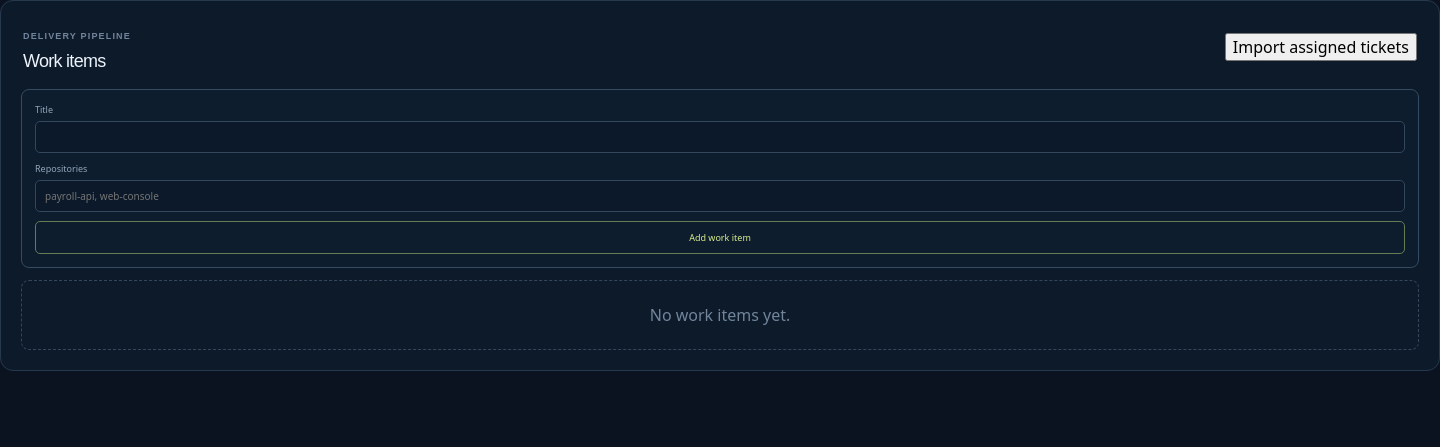
Test: WorkItemsPage › lists work items and adds one through the form
Expected: the text "No work items yet." is shown, [21, 280, 1419, 350]
Step 1. Type "Repair payroll export" into the field labelled "Title" → (720, 137), box [35, 121, 1405, 153]
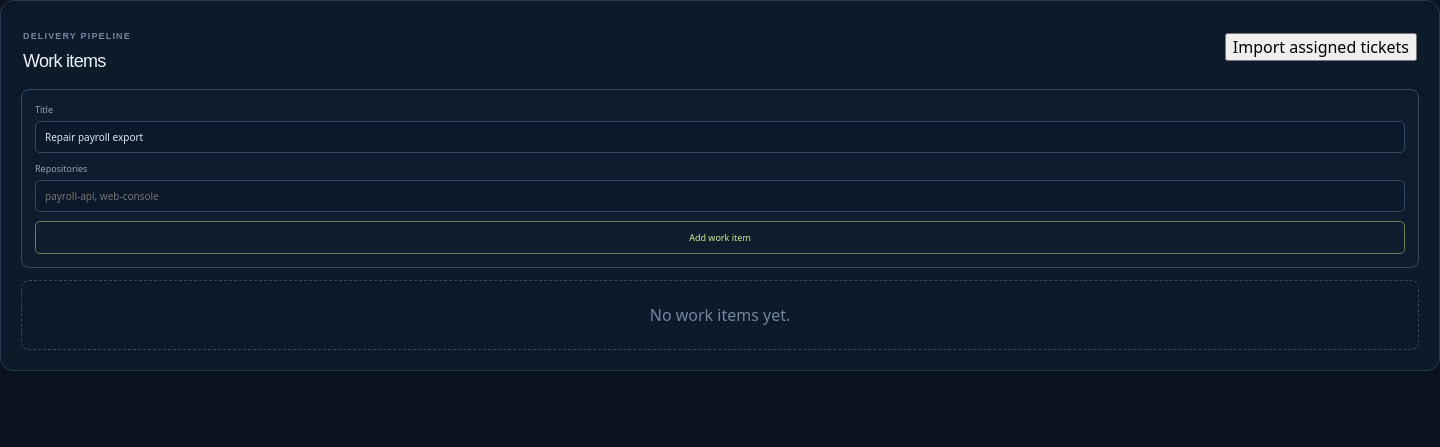
Step 2. Type "payroll-api" into the field labelled "Repositories" → (720, 196), box [35, 180, 1405, 212]
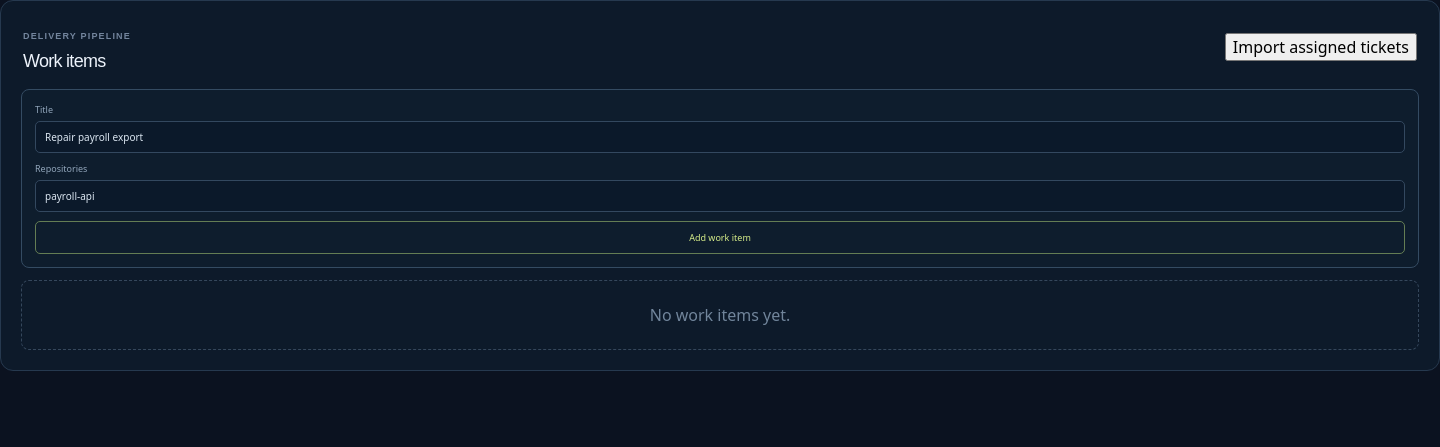
Step 3. Click the button "Add work item" → (720, 238), box [35, 221, 1405, 254]
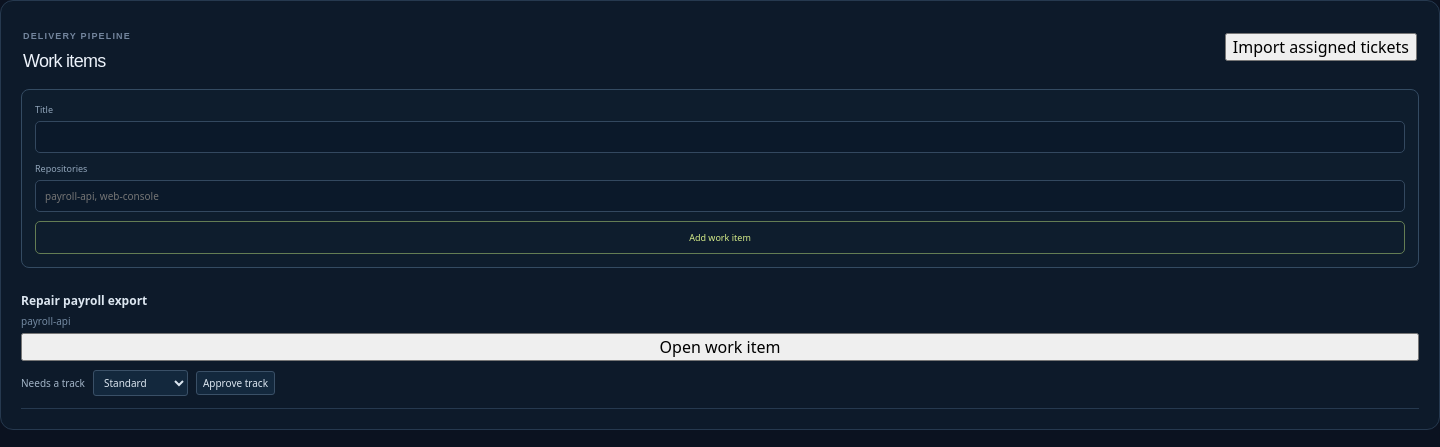
Expected: the text "Repair payroll export" is shown, [21, 292, 147, 309]
